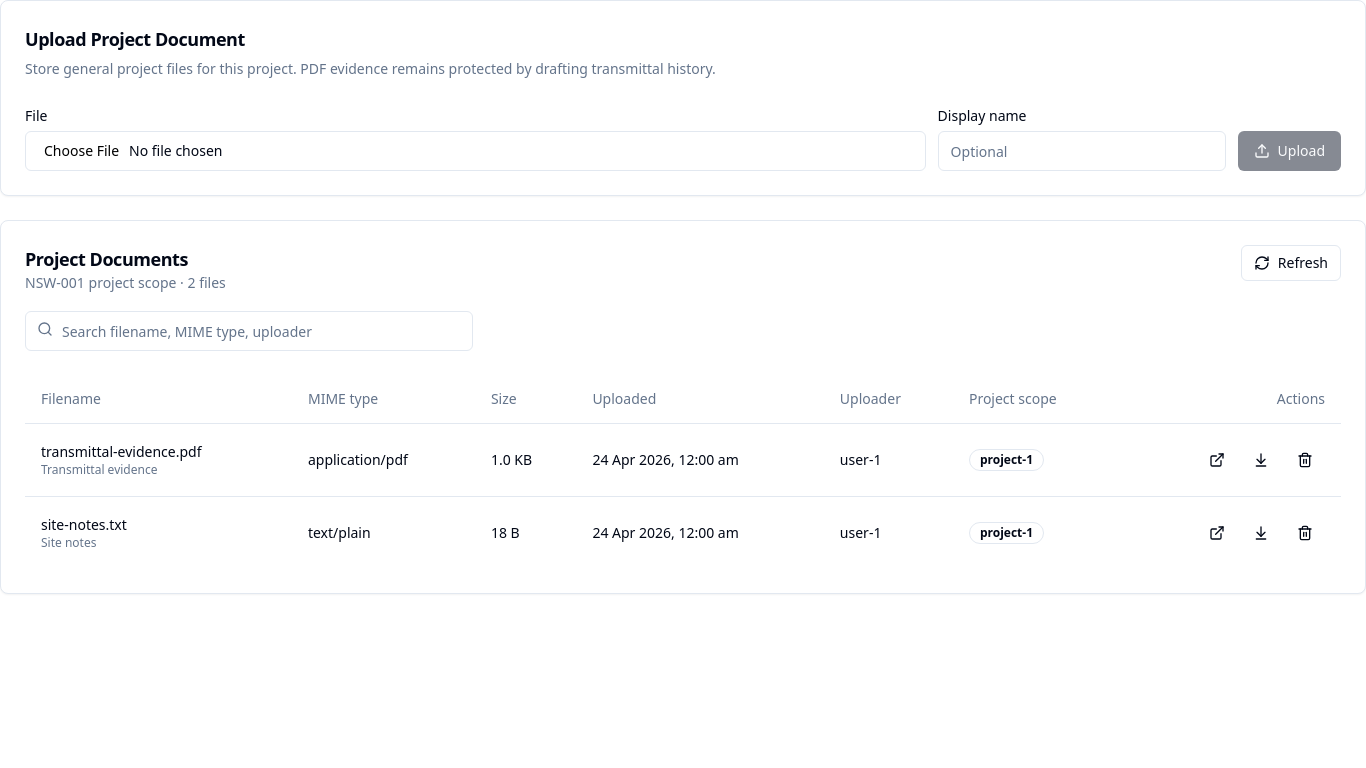
Scenario: ProjectDocumentManager › removes an unreferenced deleted document after the list updates
Click the button named "Delete site-notes.txt". click: x=1305, y=532
box: [1285,512,1325,552]
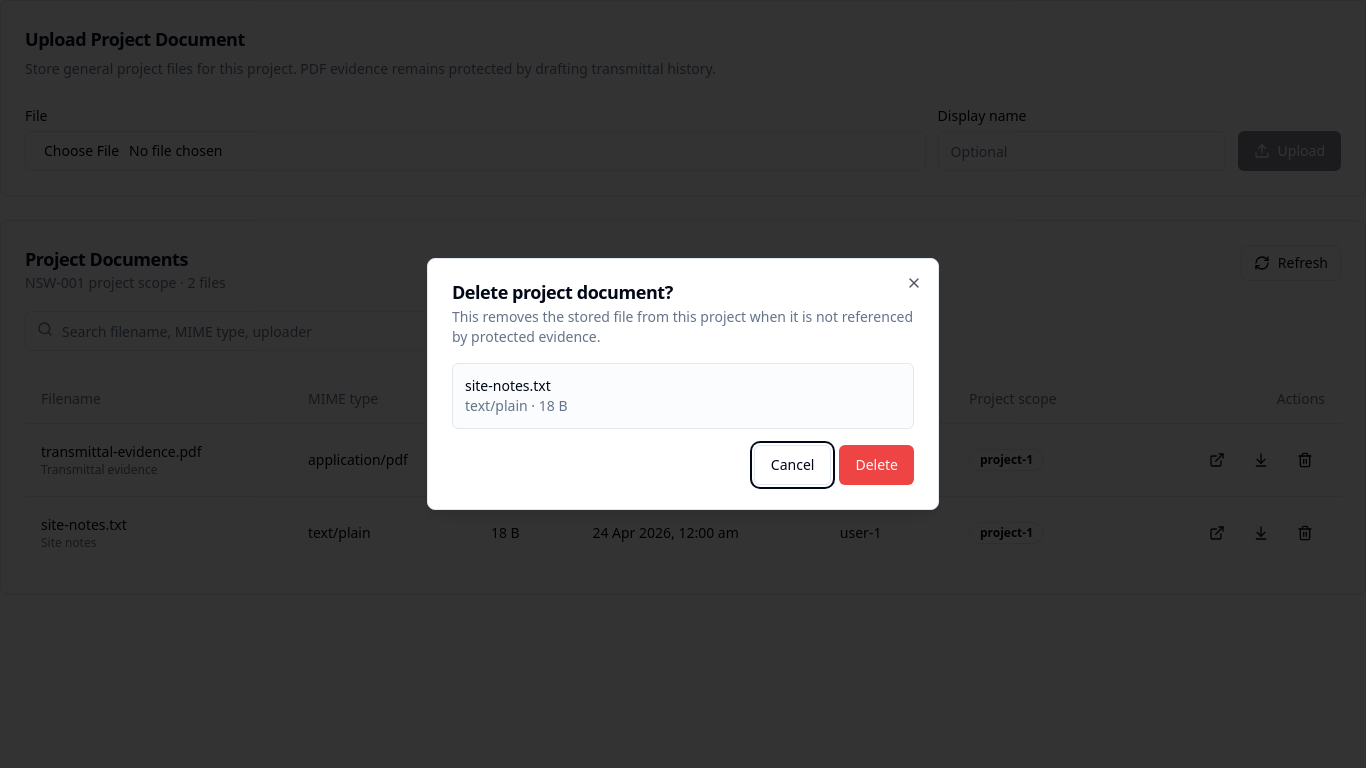
expect the button "Delete" is shown: met
Click the button "Delete". click: x=877, y=465
box: [839,445,914,485]
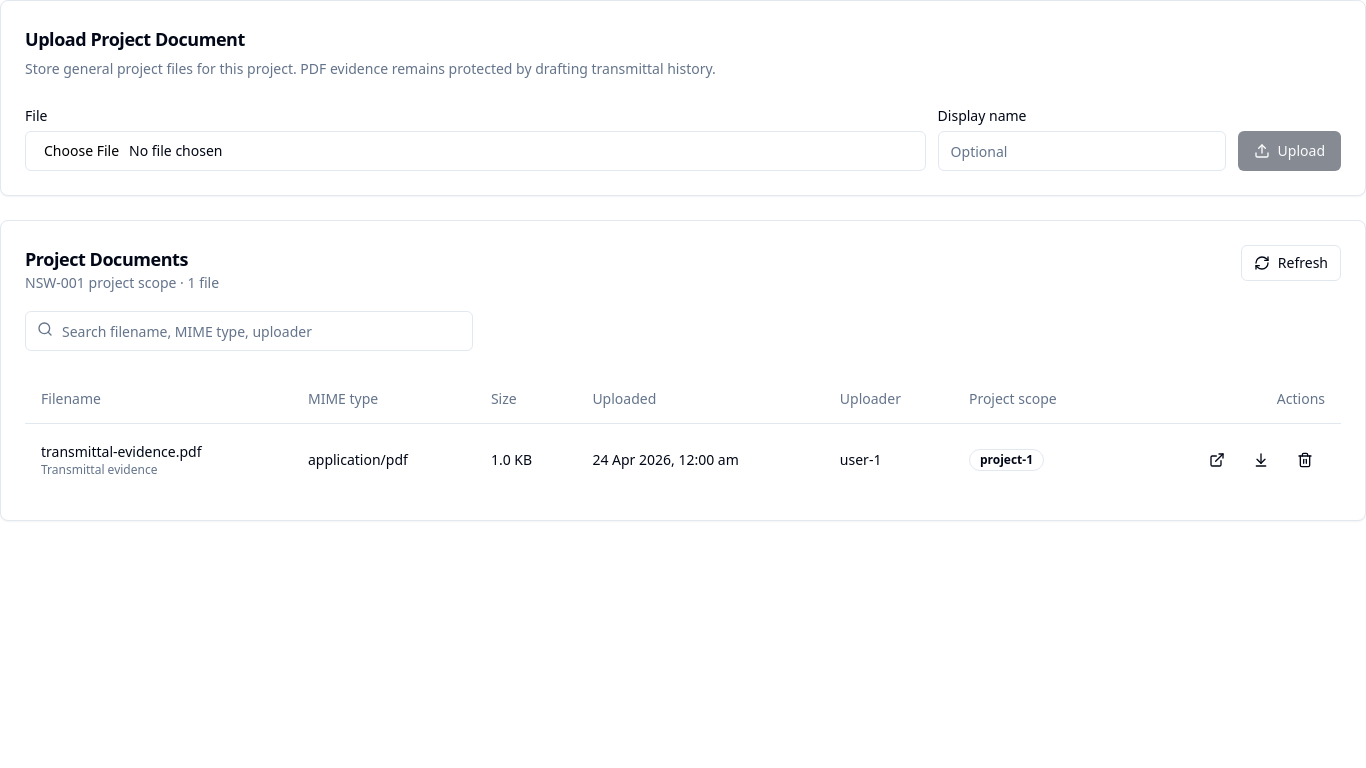
expect the text "transmittal-evidence.pdf" is shown: met, box [41,442,202,460]
expect the text "site-notes.txt" is gone: met
